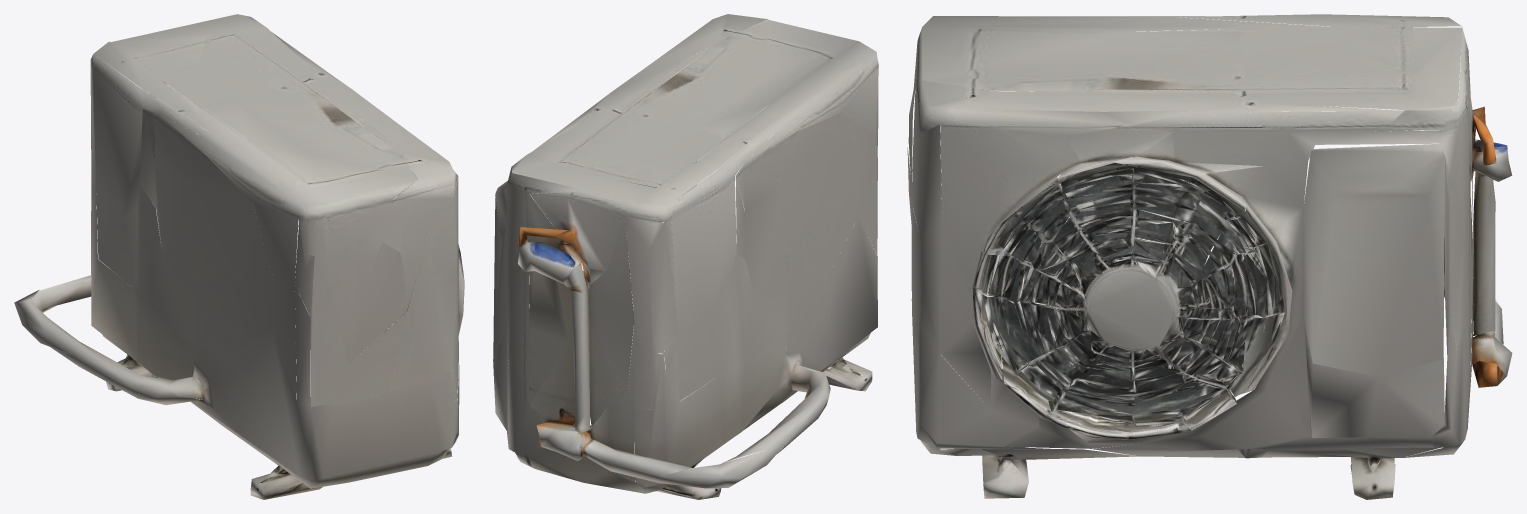
Rendered from ac_outdoor.glb.
3 renders of one model, left to right at view 1: azimuth 30°, elevation 25°; view 2: azimuth 150°, elevation 25°; view 3: azimuth 270°, elevation 25°, orthographic. The views are drawn at different scales.
Visible parts, largest first — view 1: tripo_node_d73bb492-9daf-405b-9a26-ebb4db8ff8c7; view 2: tripo_node_d73bb492-9daf-405b-9a26-ebb4db8ff8c7; view 3: tripo_node_d73bb492-9daf-405b-9a26-ebb4db8ff8c7.
Boxes of the visible parts, x1=… form: tripo_node_d73bb492-9daf-405b-9a26-ebb4db8ff8c7: x1=14, y1=14, x2=464, y2=499; tripo_node_d73bb492-9daf-405b-9a26-ebb4db8ff8c7: x1=493, y1=14, x2=878, y2=499; tripo_node_d73bb492-9daf-405b-9a26-ebb4db8ff8c7: x1=907, y1=14, x2=1512, y2=499.
Bounding box in the file's own units: 0.6611 × 0.7495 × 1.07.
1 material, 1 textured.
